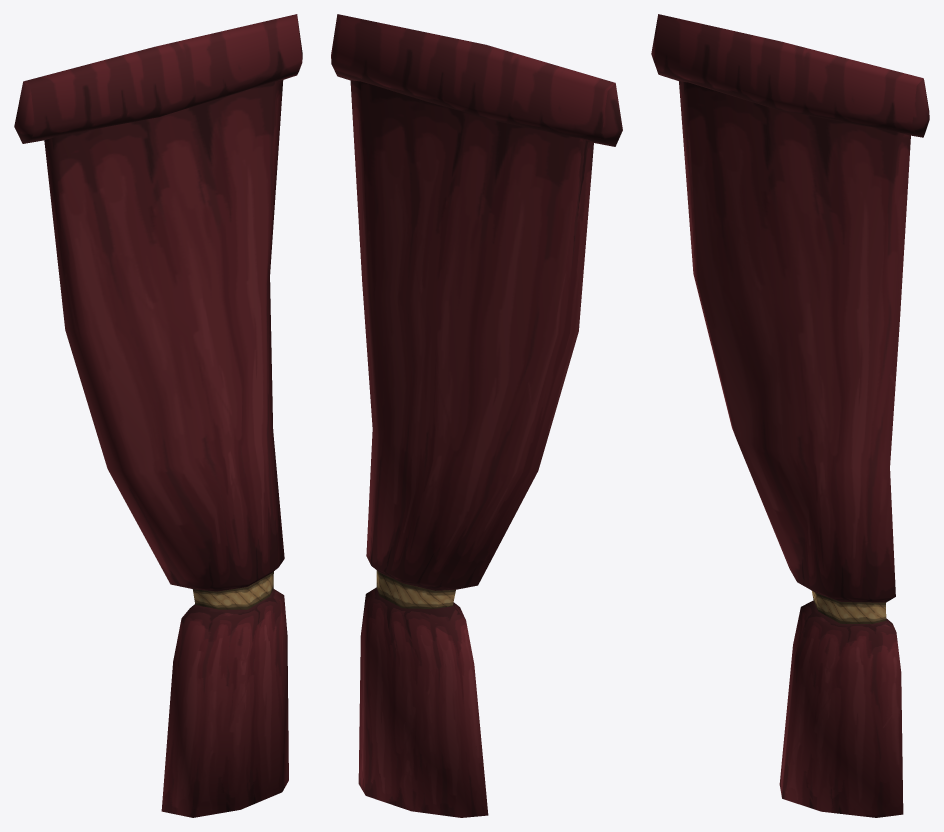
Rendered from SM_PROP_curtain_interior_02_02.fbx.
3 views of the same model, side by side, from view 1: azimuth 30°, elevation 25°; view 2: azimuth 150°, elevation 25°; view 3: azimuth 330°, elevation 25° (orthographic). The views are drawn at different scales.
Parts seen in each view (by area): view 1: SM_PROP_curtain_interior_02_02; view 2: SM_PROP_curtain_interior_02_02; view 3: SM_PROP_curtain_interior_02_02.
Boxes of the visible parts, x1,y1,x2,y2 form: SM_PROP_curtain_interior_02_02: [14, 14, 302, 817]; SM_PROP_curtain_interior_02_02: [331, 14, 622, 817]; SM_PROP_curtain_interior_02_02: [651, 14, 929, 817].
Size of the model in its own units: 85.56 by 218 by 18.02.
